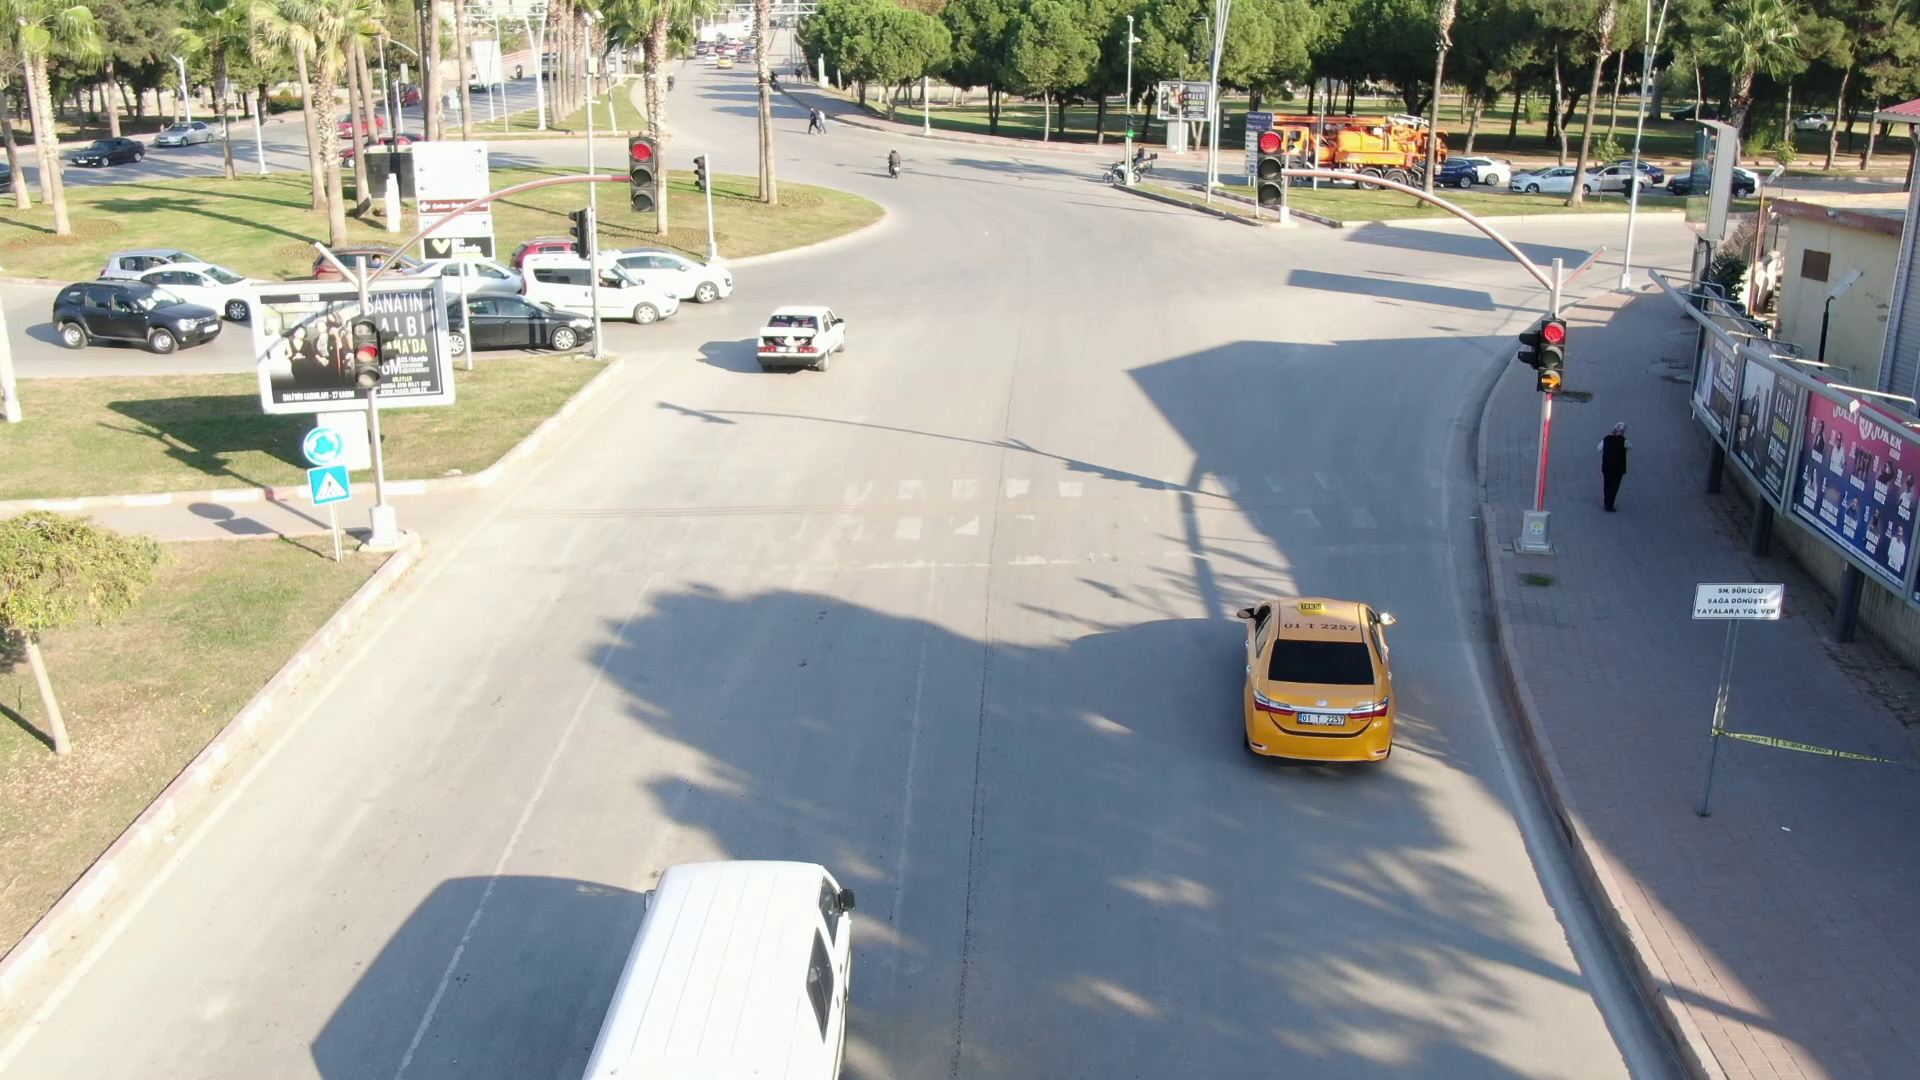car: (553, 851, 870, 1080), (1215, 594, 1400, 765), (39, 274, 221, 359), (517, 249, 680, 323), (447, 286, 600, 349), (749, 304, 855, 374)
person: (1586, 408, 1639, 519)
